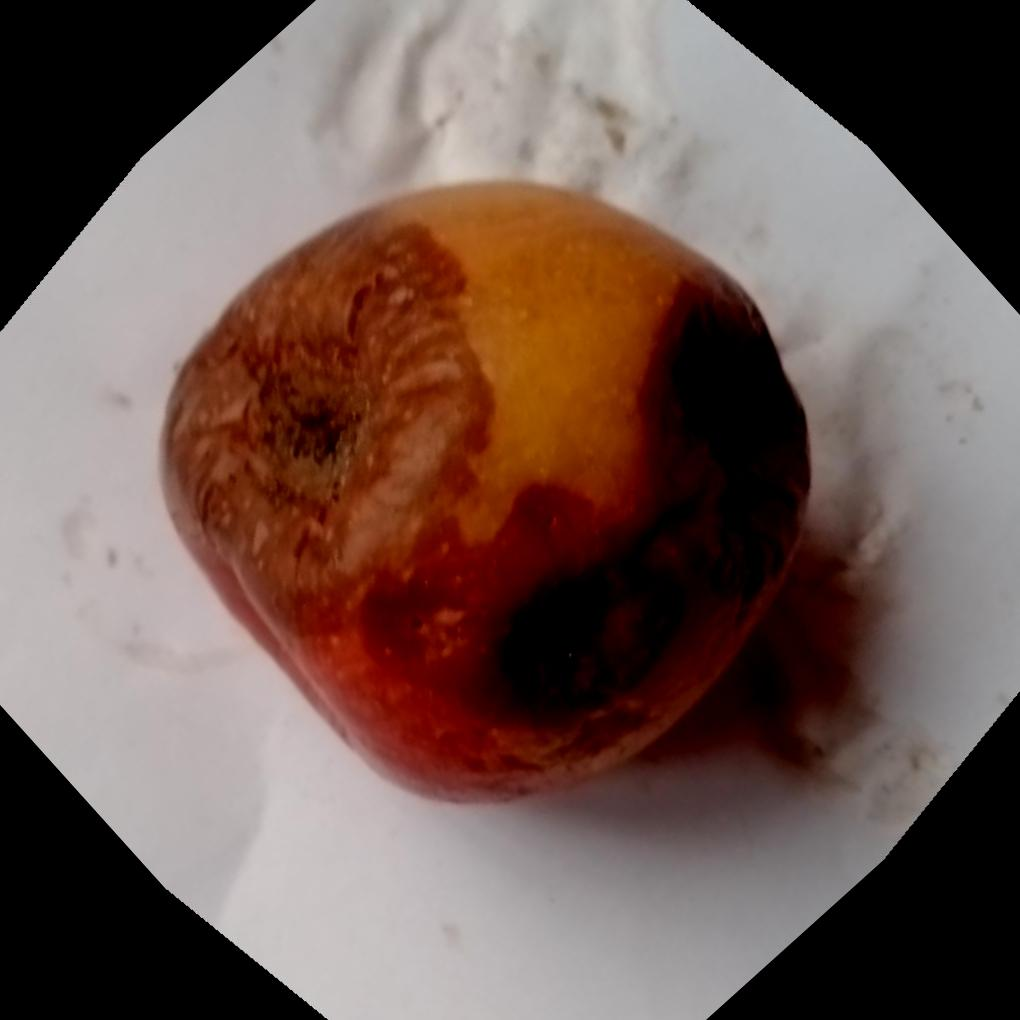FreshOrange: (156, 176, 813, 807)
